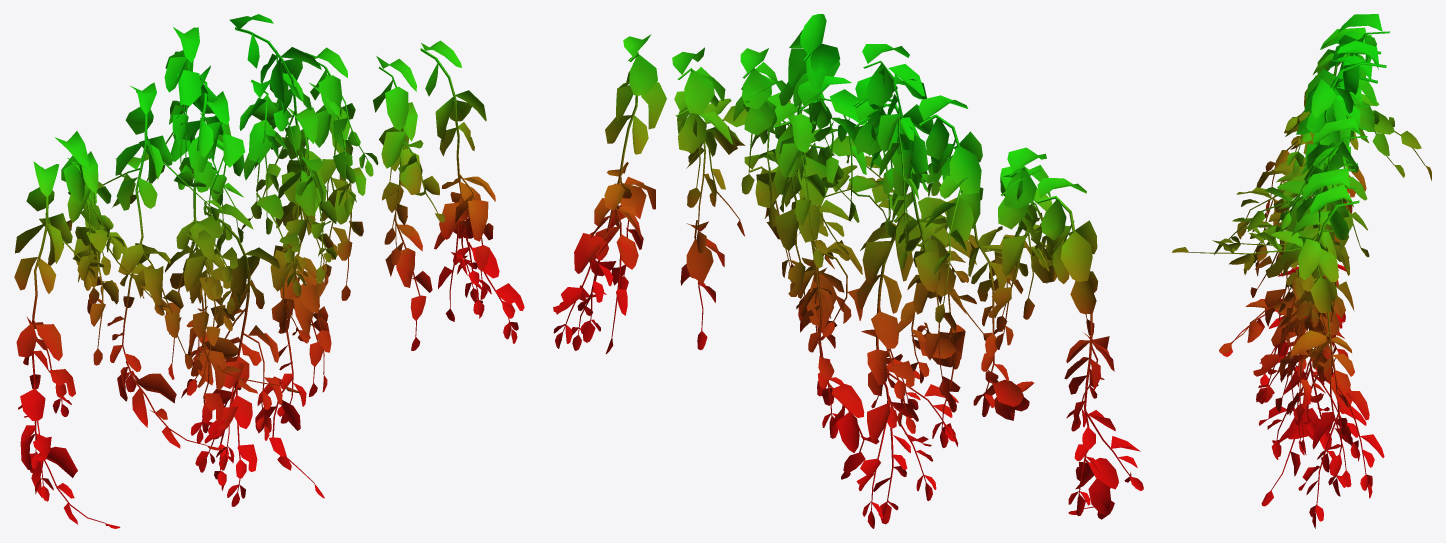
Rendered from Var6_LOD2.fbx.
3 renders of one model, left to right at view 1: azimuth 30°, elevation 25°; view 2: azimuth 150°, elevation 25°; view 3: azimuth 270°, elevation 25°, orthographic. The views are drawn at different scales.
Visible parts, largest first — view 1: _paxw_Var6_LOD2; view 2: _paxw_Var6_LOD2; view 3: _paxw_Var6_LOD2.
Boxes of the visible parts, x1,y1,x2,y2 form: _paxw_Var6_LOD2: (14, 14, 524, 528); _paxw_Var6_LOD2: (553, 14, 1143, 528); _paxw_Var6_LOD2: (1172, 14, 1431, 528).
Size of the model in its own units: 111 by 95.87 by 50.09.
